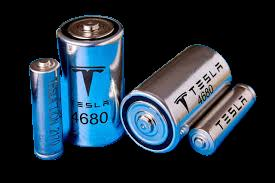Battery: (122, 46, 232, 152), (56, 15, 125, 147), (190, 85, 257, 156), (29, 58, 64, 160)
